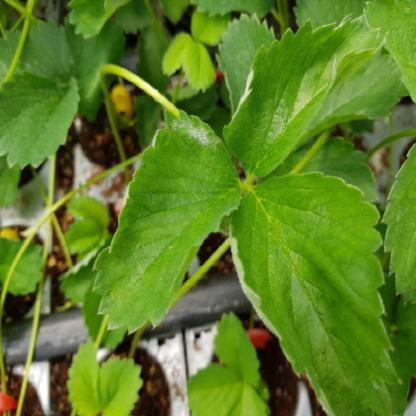Strawberry_Powdery_Mildew_Leaf: (230, 171, 406, 415), (90, 110, 241, 336), (222, 10, 389, 181)
